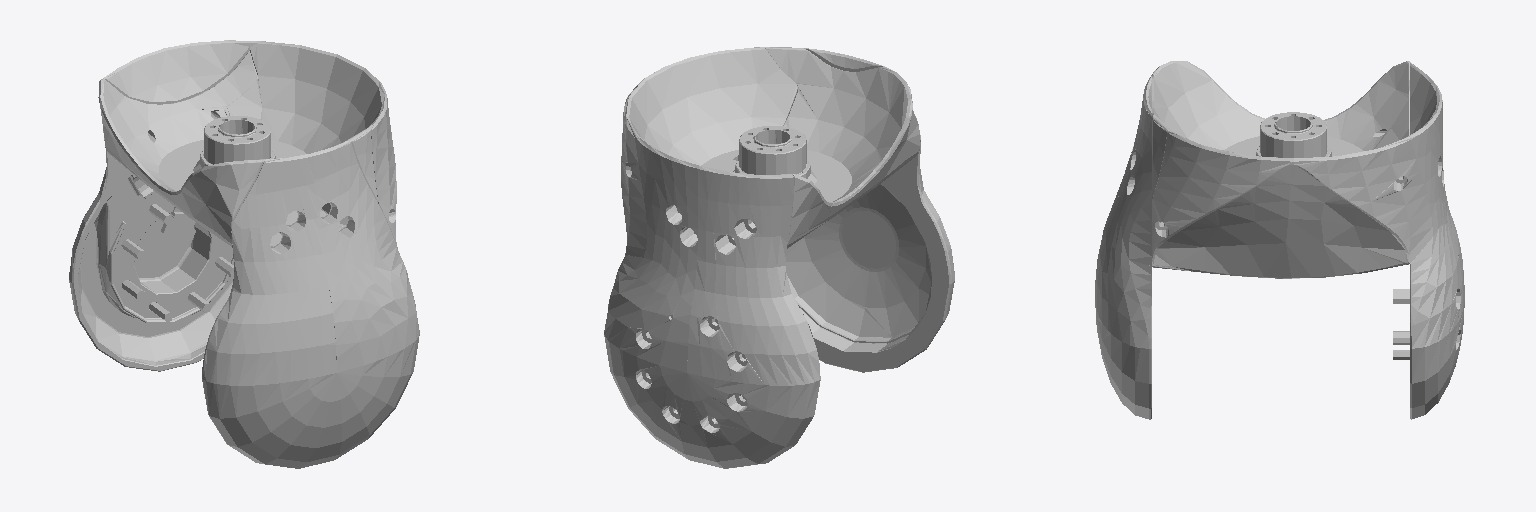
File: elbow1_left_3.obj
3 renders of one model, left to right at view 1: azimuth 30°, elevation 25°; view 2: azimuth 150°, elevation 25°; view 3: azimuth 270°, elevation 25°, orthographic.
Size of the model in its own units: 0.1009 by 0.1273 by 0.1365.